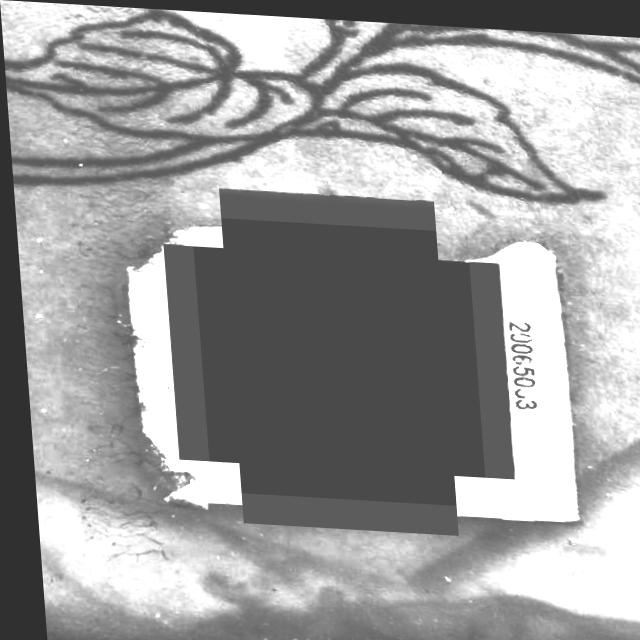qr_code: (188, 214, 480, 502)
